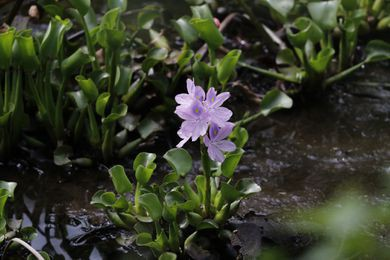water_hyacinth: (0, 1, 390, 260)
